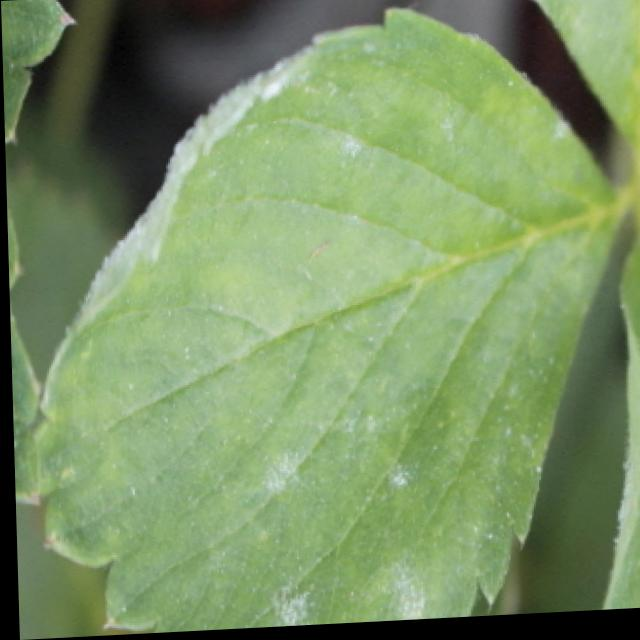Powdery Mildew Leaf: (21, 12, 627, 635)
